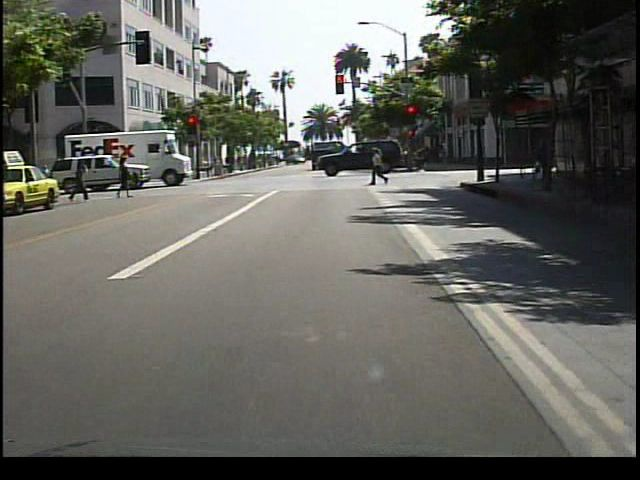person: (531, 136, 559, 190), (70, 158, 92, 204), (368, 145, 392, 187), (113, 153, 133, 201)
